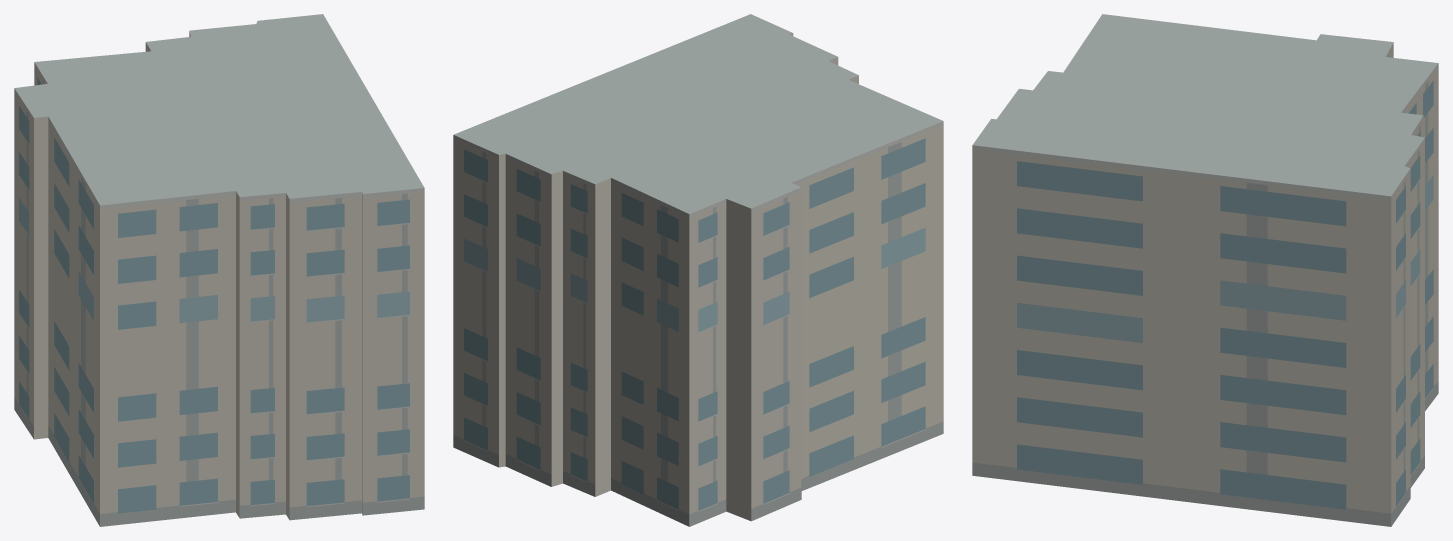
The model's file is survey-upis-32878358.glb.
3 renders of one model, left to right at view 1: azimuth 30°, elevation 25°; view 2: azimuth 150°, elevation 25°; view 3: azimuth 270°, elevation 25°, orthographic. The views are drawn at different scales.
Parts seen in each view (by area): view 1: survey-upis-32878358.tmp; view 2: survey-upis-32878358.tmp; view 3: survey-upis-32878358.tmp.
Boxes of the visible parts, x1,y1,x2,y2 form: survey-upis-32878358.tmp: [14, 14, 424, 526]; survey-upis-32878358.tmp: [453, 14, 943, 526]; survey-upis-32878358.tmp: [972, 14, 1438, 526].
Bounding box in the file's own units: 23.74 × 20.05 × 25.64.
